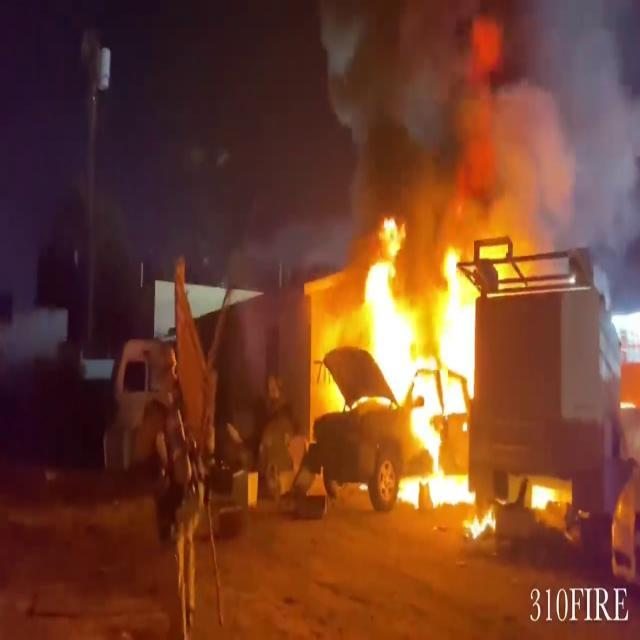Fire: (344, 209, 482, 506)
Smoke: (314, 0, 640, 244)
